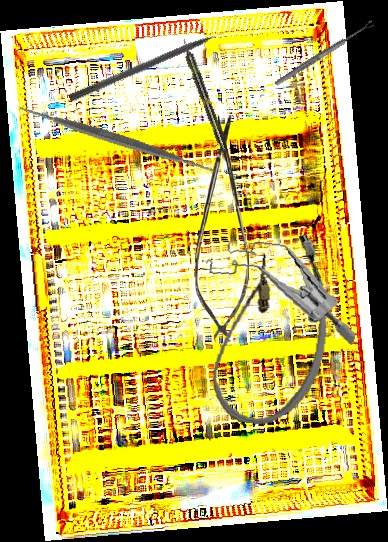Cannula: (206, 226, 339, 431)
Handpiece: (179, 37, 229, 152)
Micro Scissor: (195, 115, 249, 338)
Pusher: (68, 24, 237, 104)
Spatula Surgical: (14, 35, 222, 245)
Speculum: (197, 230, 366, 348)
Surgical Spoon: (273, 20, 376, 87)
